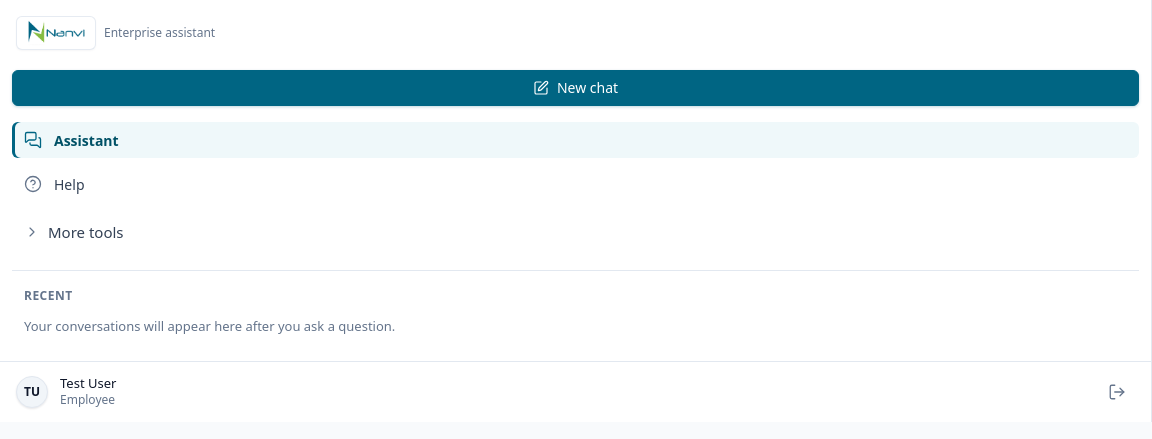
Test: Sidebar More tools › opens the flyout and preserves route selection behavior
Click the button "More tools" at point(86, 232), box [12,210,1139,254]
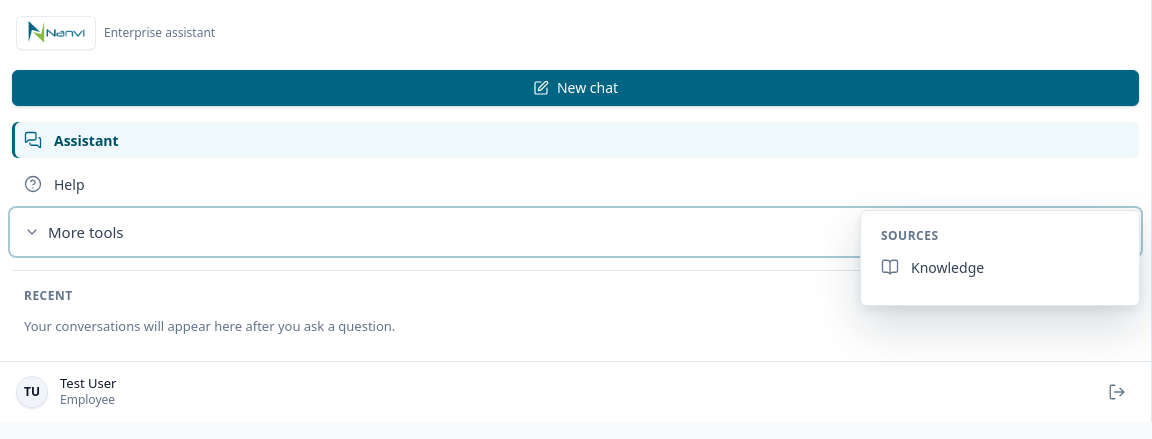
Check: the button "More tools" is expanded, box [12,210,1139,254]
Check: the navigation bar named "More workspace tools" is shown, box [869,219,1131,285]
Click the button "Knowledge" at point(948, 267), box [869,249,1131,285]
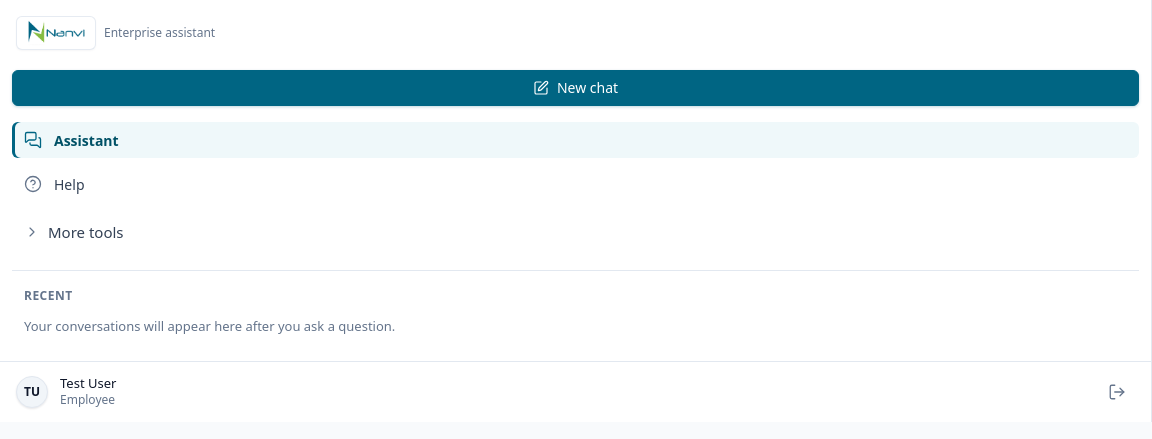
Check: the button "More tools" is collapsed, box [12,210,1139,254]
